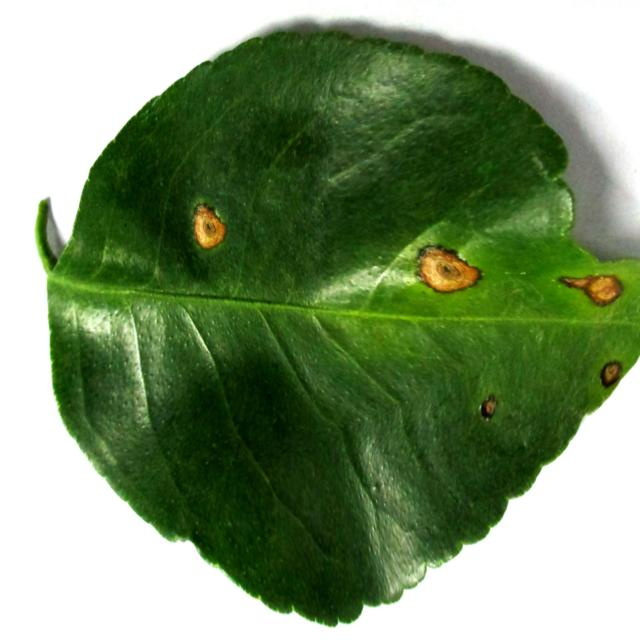antracnose: (36, 32, 640, 624), (418, 246, 480, 292), (559, 275, 623, 306), (194, 205, 225, 248), (601, 361, 622, 387), (481, 395, 497, 419)
